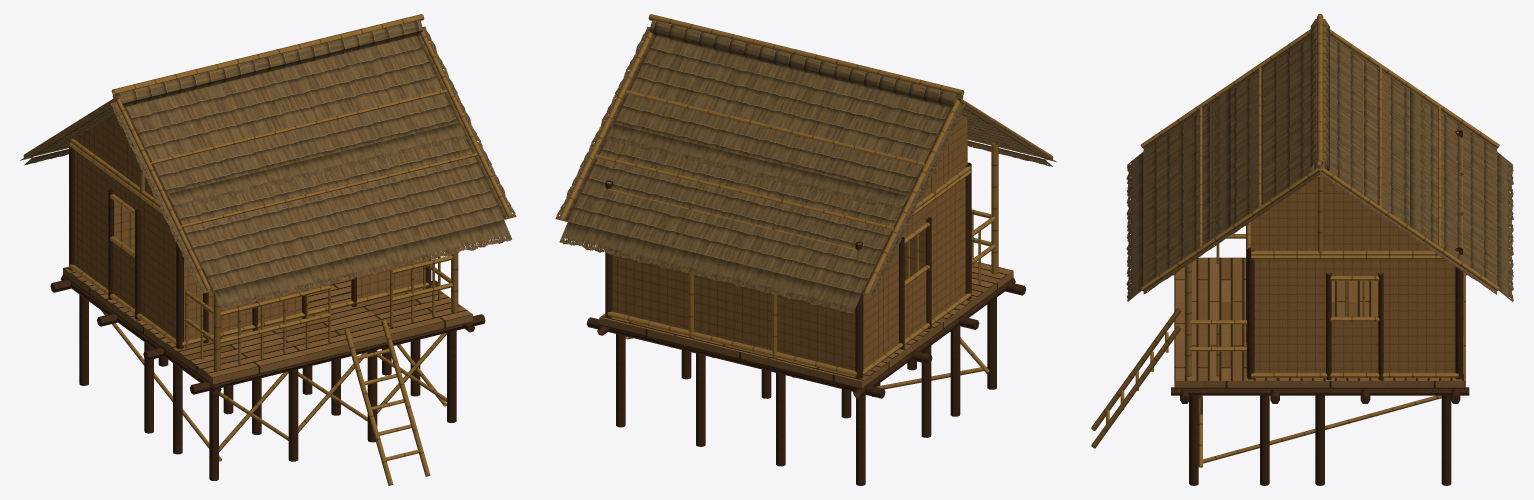
3 views of the same model, side by side, from view 1: azimuth 30°, elevation 25°; view 2: azimuth 150°, elevation 25°; view 3: azimuth 270°, elevation 25° (orthographic). The views are drawn at different scales.
Parts seen in each view (by area): view 1: hut_samal_0; view 2: hut_samal_0; view 3: hut_samal_0.
Part boxes in pixels (box(x1,y1,x2,y2)): hut_samal_0: box(20, 14, 516, 485); hut_samal_0: box(555, 14, 1056, 485); hut_samal_0: box(1091, 14, 1513, 485).
Bounding box in the file's own units: 5.26 × 5.41 × 6.17.
Materials: 6 (6 with a texture image).
